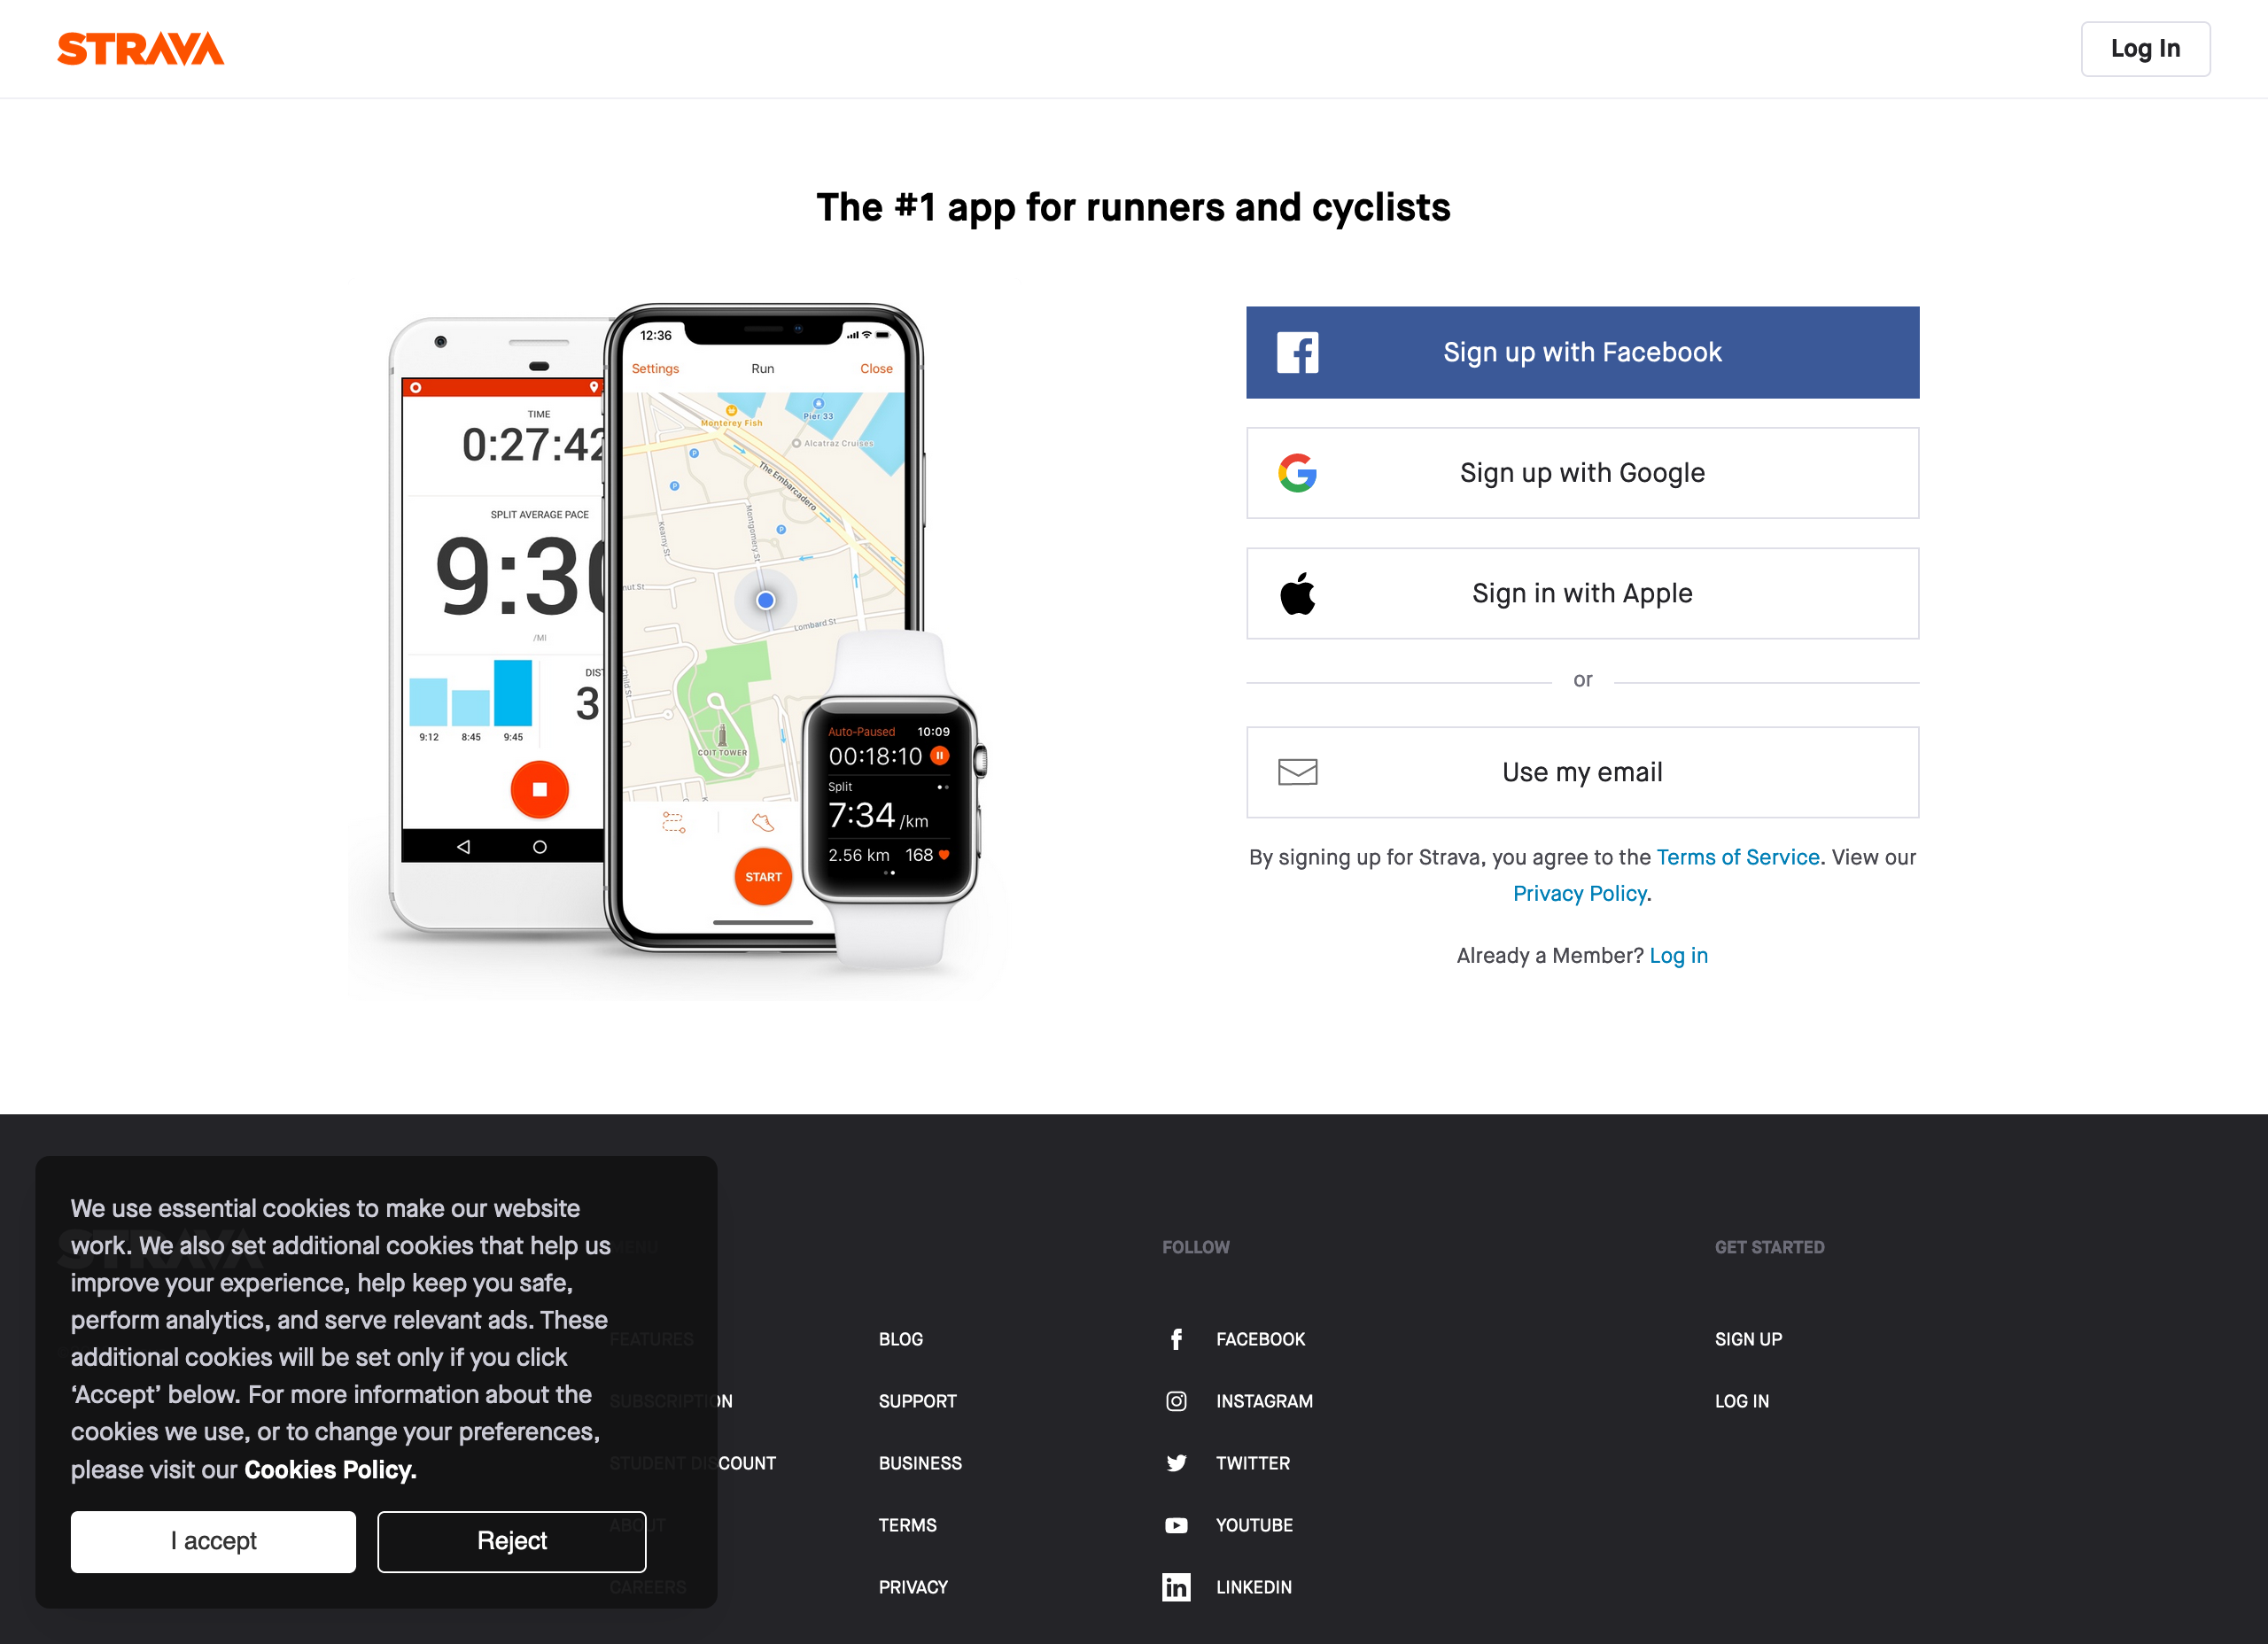Login: (2073, 11, 2222, 86)
